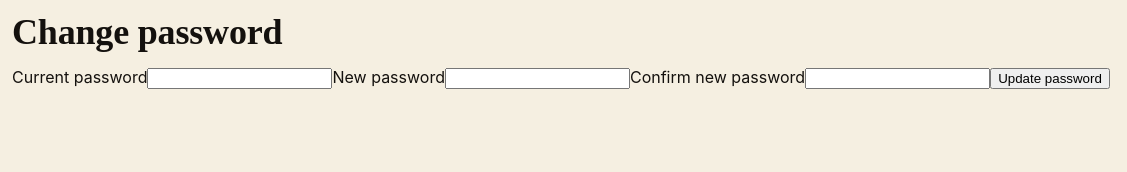
Test: Change password › submits current + new password with the CSRF header once authenticated
The image size is (1127, 172).
Type "old-password-value" into the password field labelled "Current password". click: (240, 79)
box: left=148, top=68, right=332, bottom=89
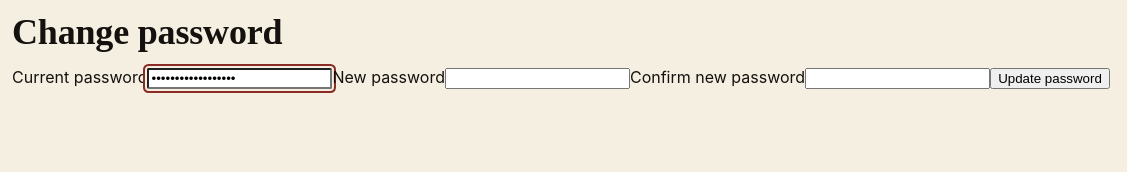
Type "a-long-fresh-password" into the password field labelled "New password". click: (538, 79)
box: left=445, top=68, right=630, bottom=89
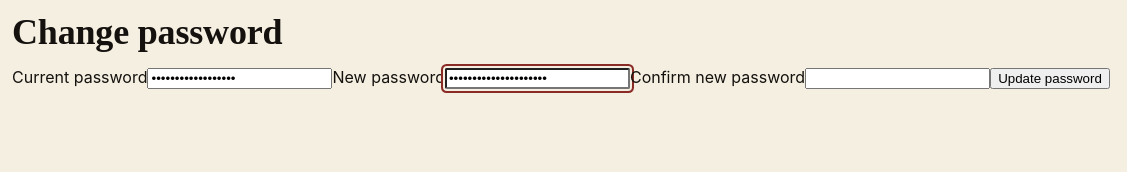
Type "a-long-fresh-password" into the password field labelled "Confirm new password". click: (898, 79)
box: left=805, top=68, right=990, bottom=89
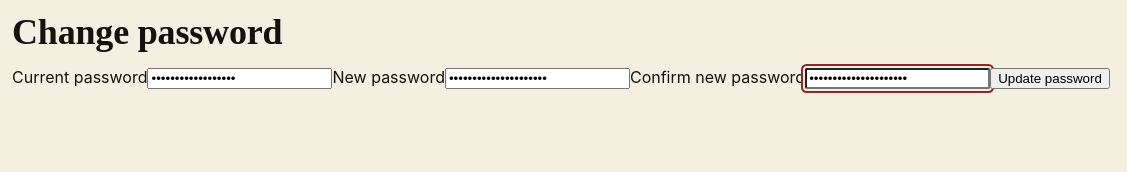
Click the button "Update password". click: (1050, 79)
box: left=990, top=68, right=1110, bottom=89
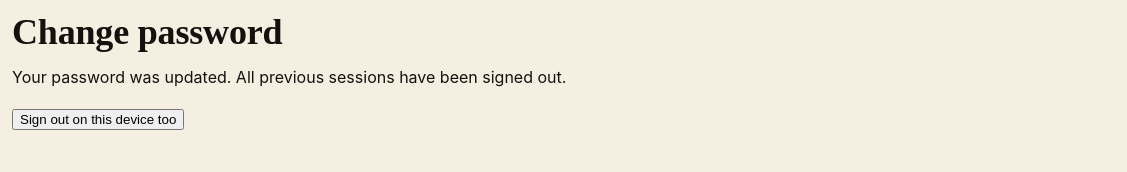
Expected: the text "All previous sessions have been signed out" is shown, left=12, top=67, right=566, bottom=87
